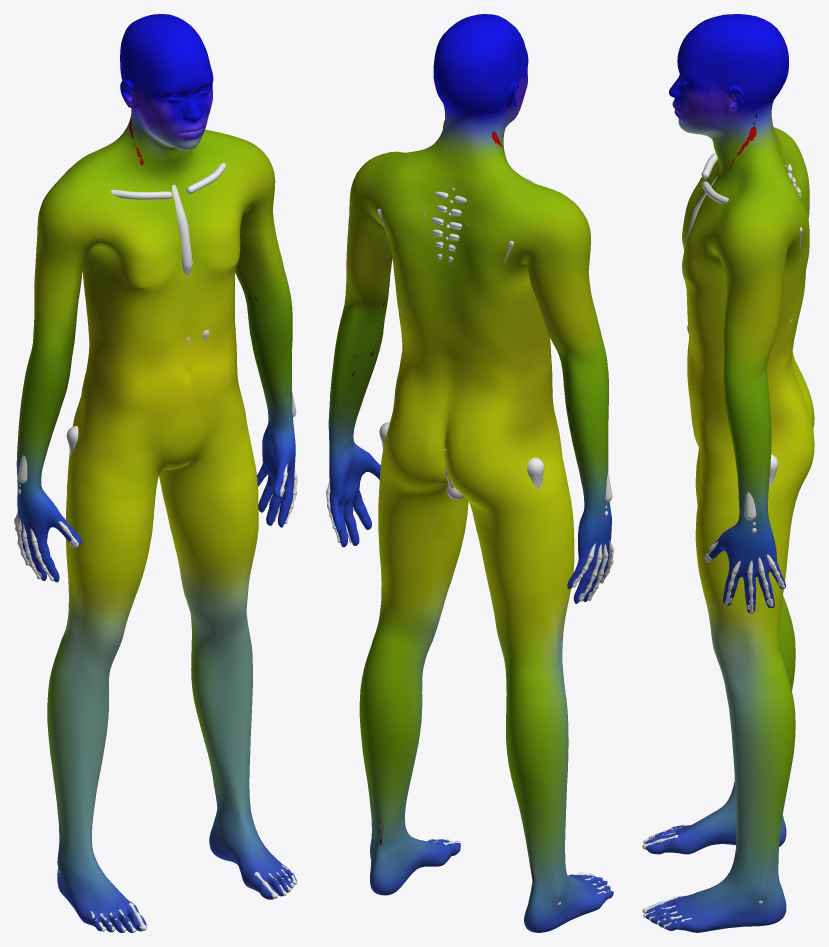
The model's file is pft-anatomy.glb.
3 views of the same model, side by side, from view 1: azimuth 30°, elevation 25°; view 2: azimuth 150°, elevation 25°; view 3: azimuth 270°, elevation 25° (orthographic).
Parts seen in each view (by area): view 1: Skin, Bones; view 2: Skin, Bones; view 3: Skin, Bones.
Part boxes in pixels (x1=…): Skin: x1=16, y1=14, x2=297, y2=932; Bones: x1=14, y1=131, x2=297, y2=932; Skin: x1=328, y1=14, x2=613, y2=932; Bones: x1=326, y1=177, x2=613, y2=905; Skin: x1=645, y1=14, x2=814, y2=932; Bones: x1=642, y1=152, x2=802, y2=929.
Size of the model in its own units: 0.5717 by 1.71 by 0.3071.
